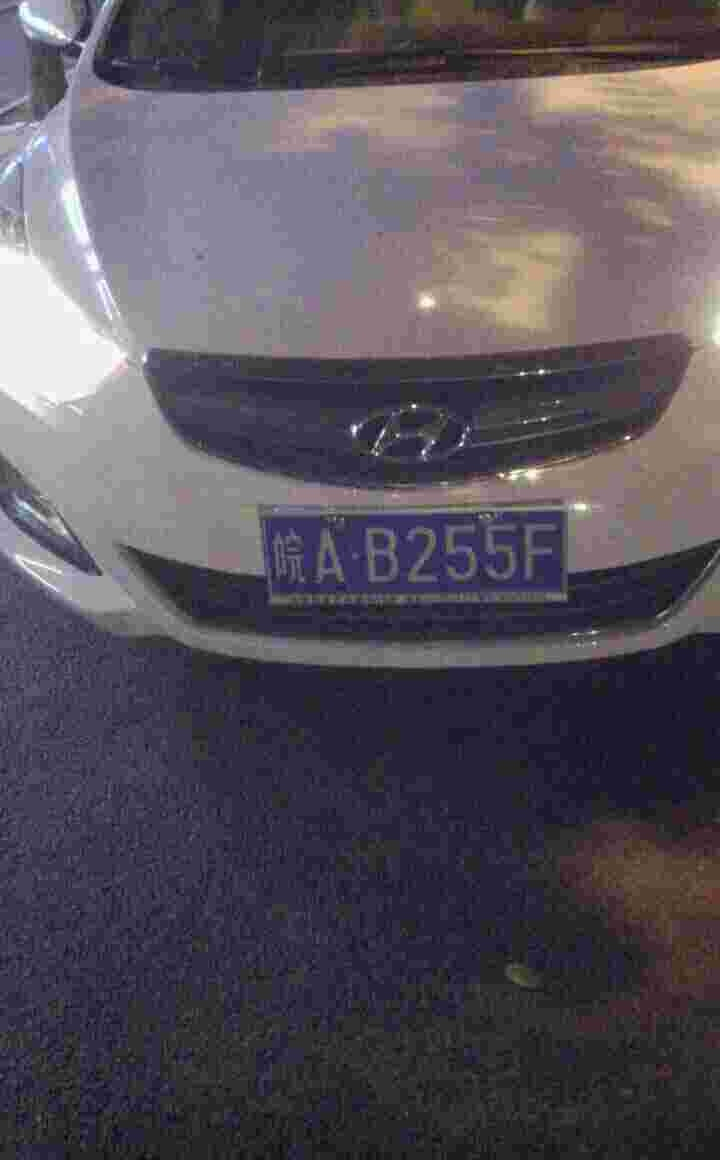license_plate: (263, 504, 582, 599)
